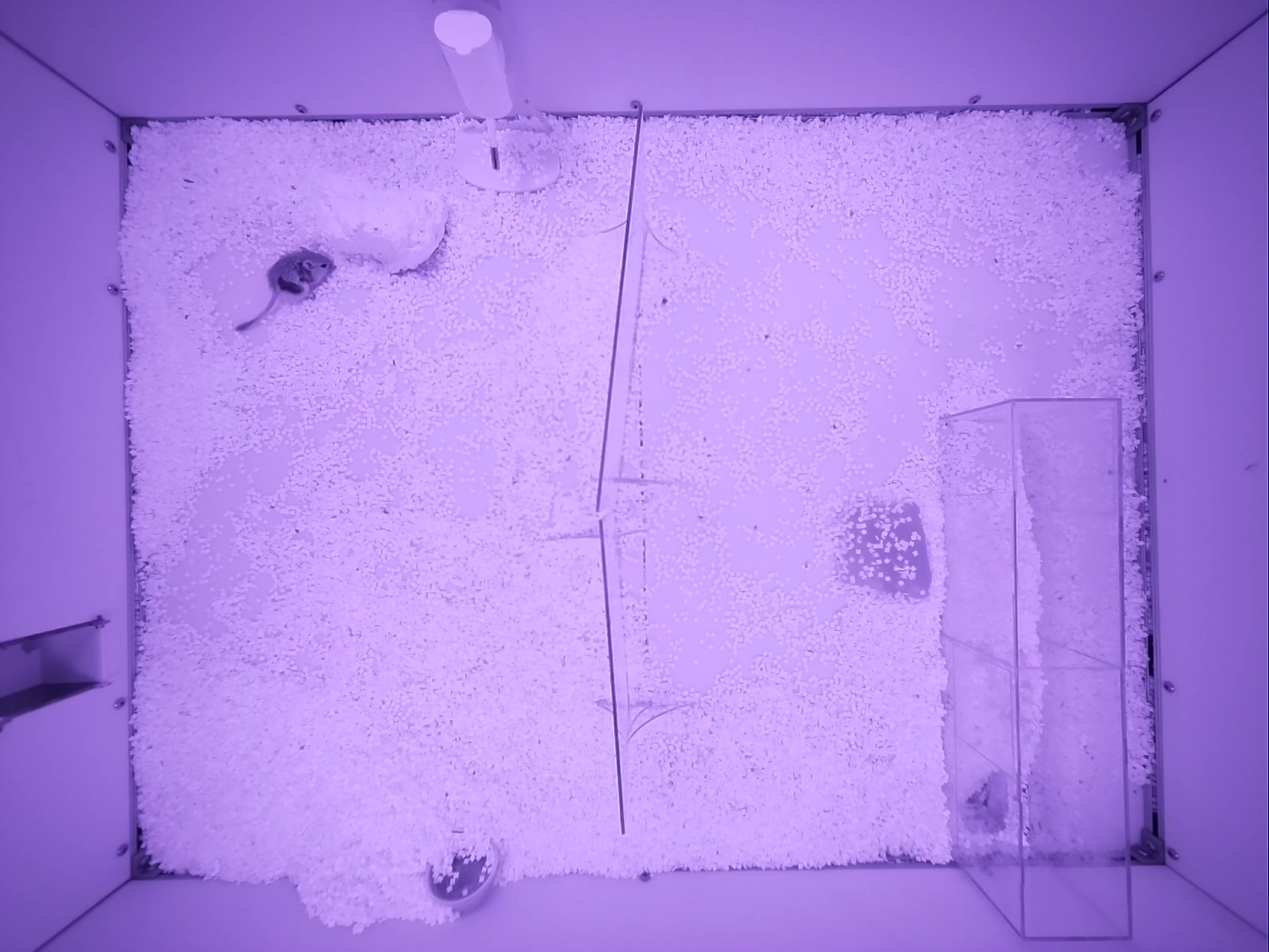adult_back: (236, 248, 333, 330)
